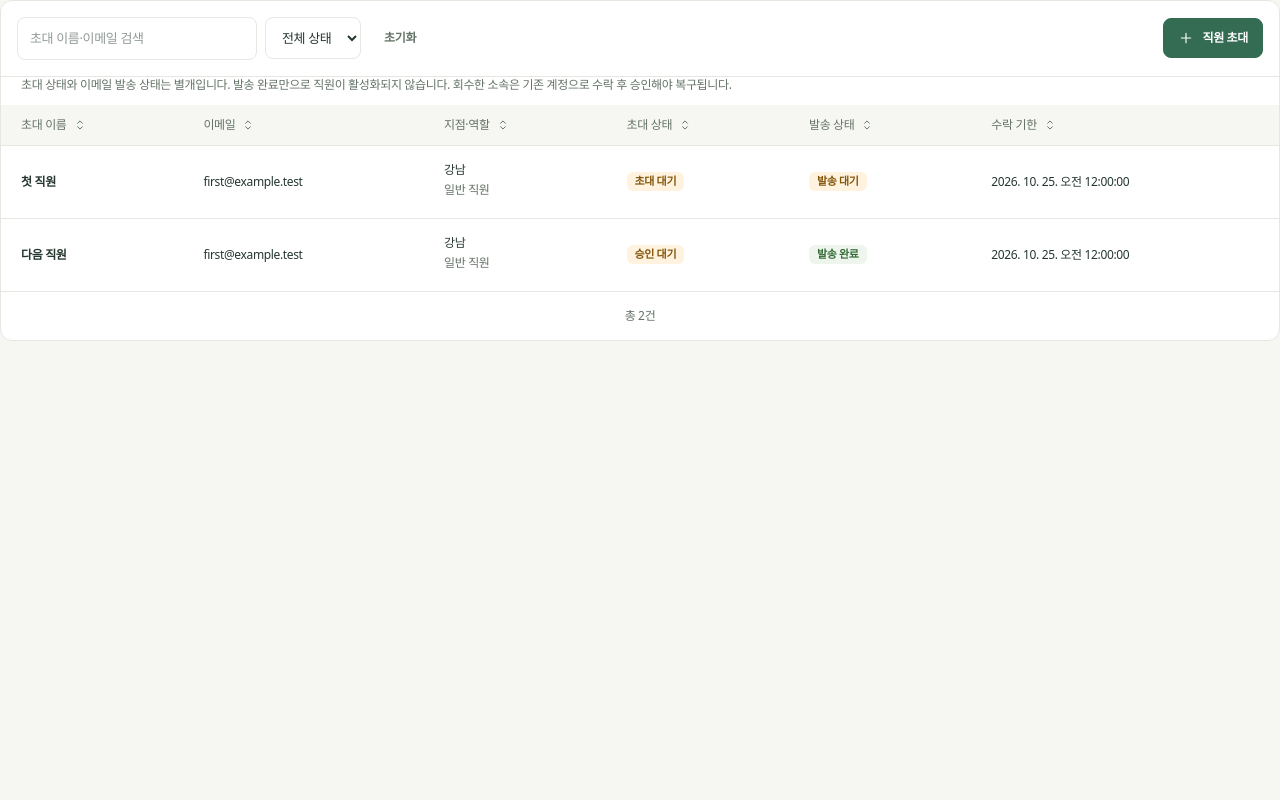
Scenario: ignores a late detail response after another invitation is selected
This screenshot has width=1280, height=800.
Click the button "첫 직원": [38, 182] box [21,174,56,190]
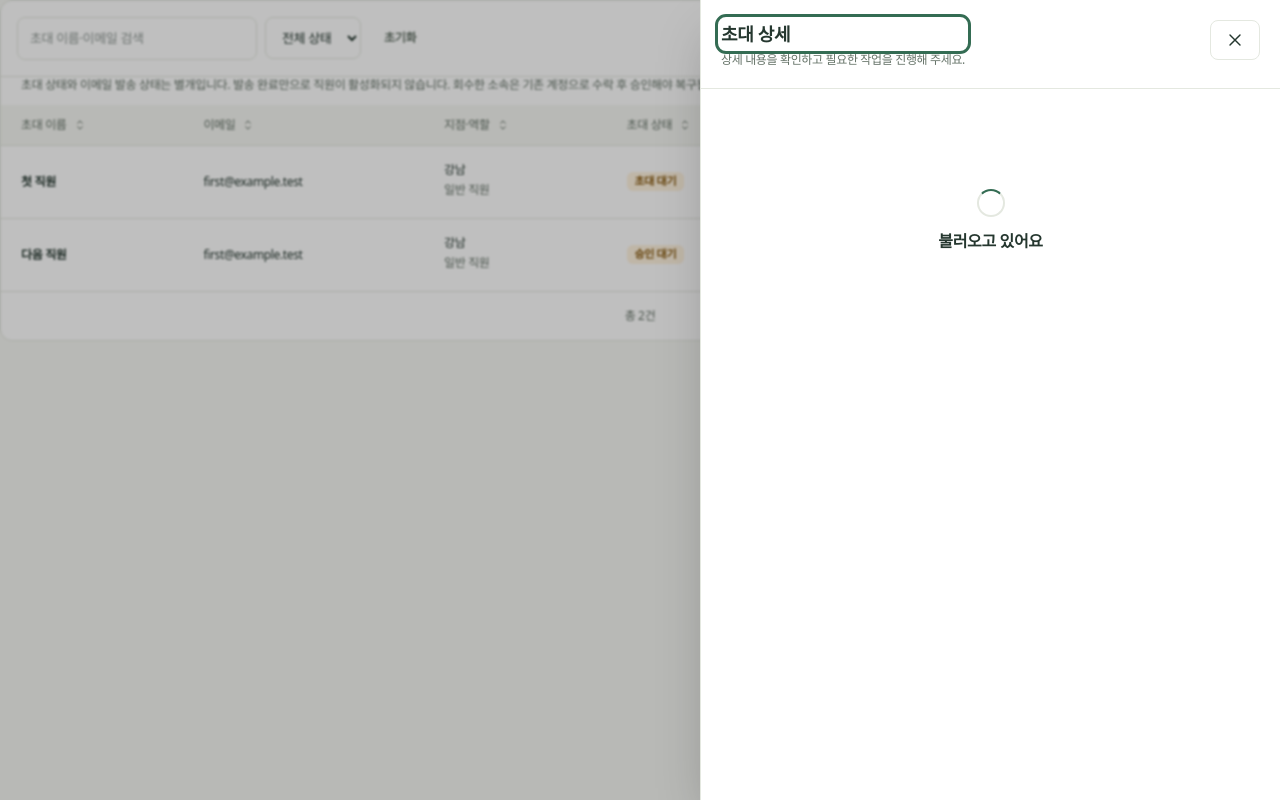
Click the button named "닫기": [1235, 40] box [1210,20,1260,60]
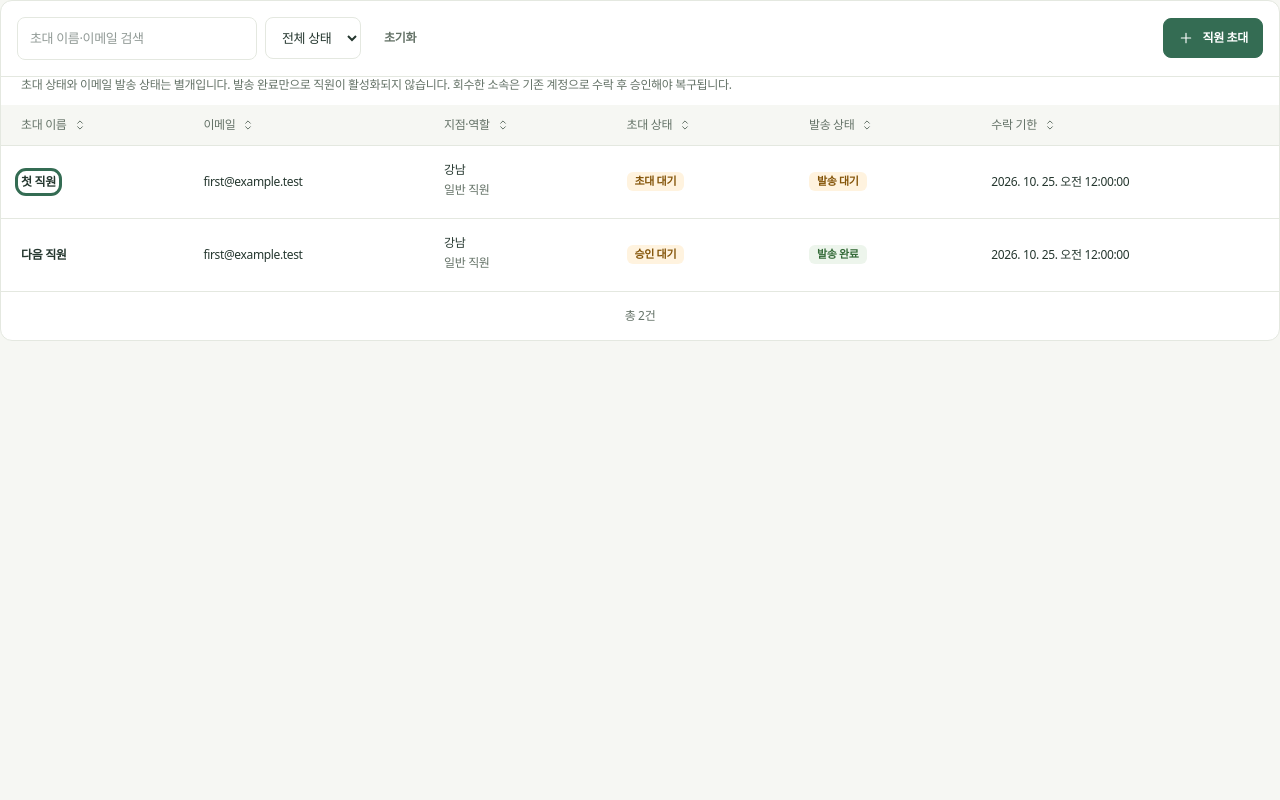
Now the dialog is gone
Click the button "다음 직원": [44, 255] box [21,247,66,263]
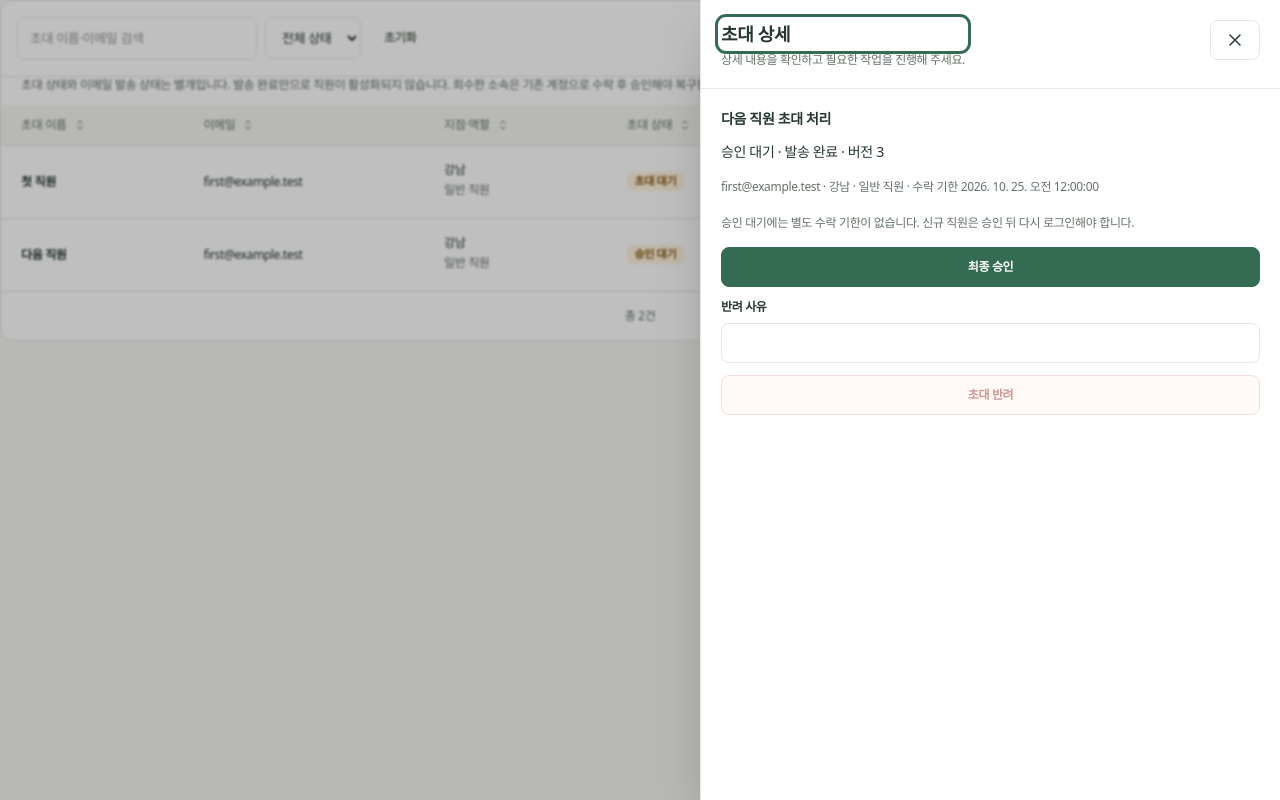
Now the heading "다음 직원 초대 처리" is shown, box [721,109,831,128]
Now the button "최종 승인" is enabled, box [721,247,1260,287]
